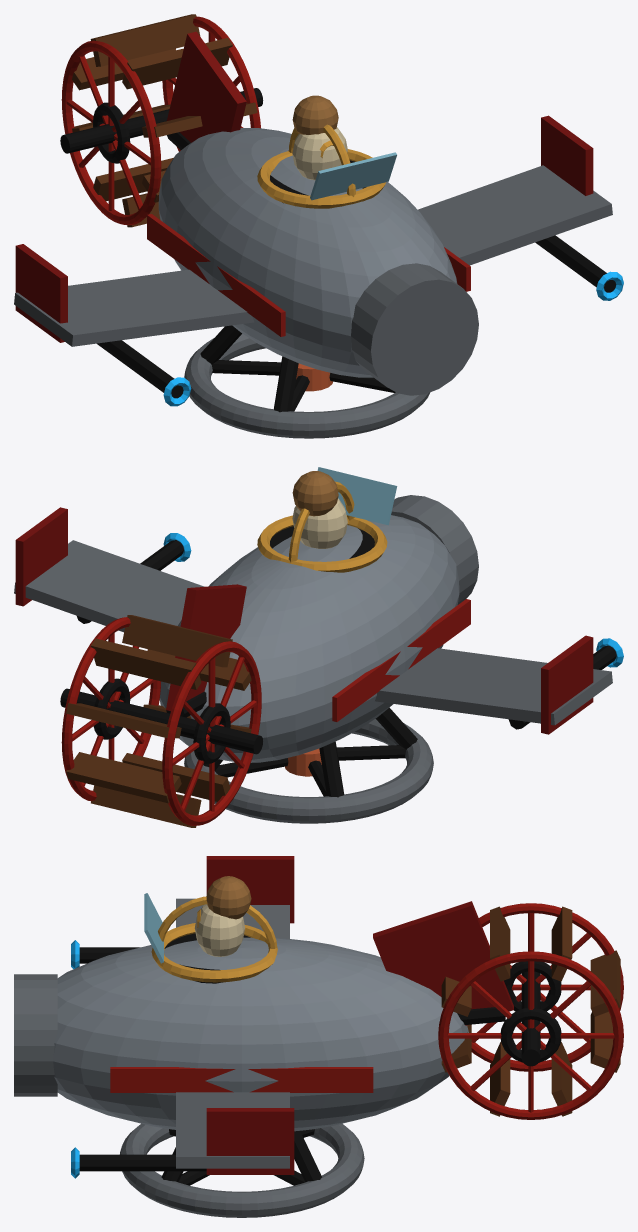
The model's file is fighter.obj.
3 renders of one model, top to bottom at view 1: azimuth 30°, elevation 25°; view 2: azimuth 150°, elevation 25°; view 3: azimuth 270°, elevation 25°, orthographic.
Visible parts, largest first — view 1: fighter; view 2: fighter; view 3: fighter.
Boxes of the visible parts, bbox=[...] form: fighter: bbox=[14, 14, 623, 438]; fighter: bbox=[14, 467, 623, 827]; fighter: bbox=[14, 856, 623, 1217].
Bounding box in the file's own units: 45 × 23.65 × 44.73.
Materials: 1 (1 with a texture image).
